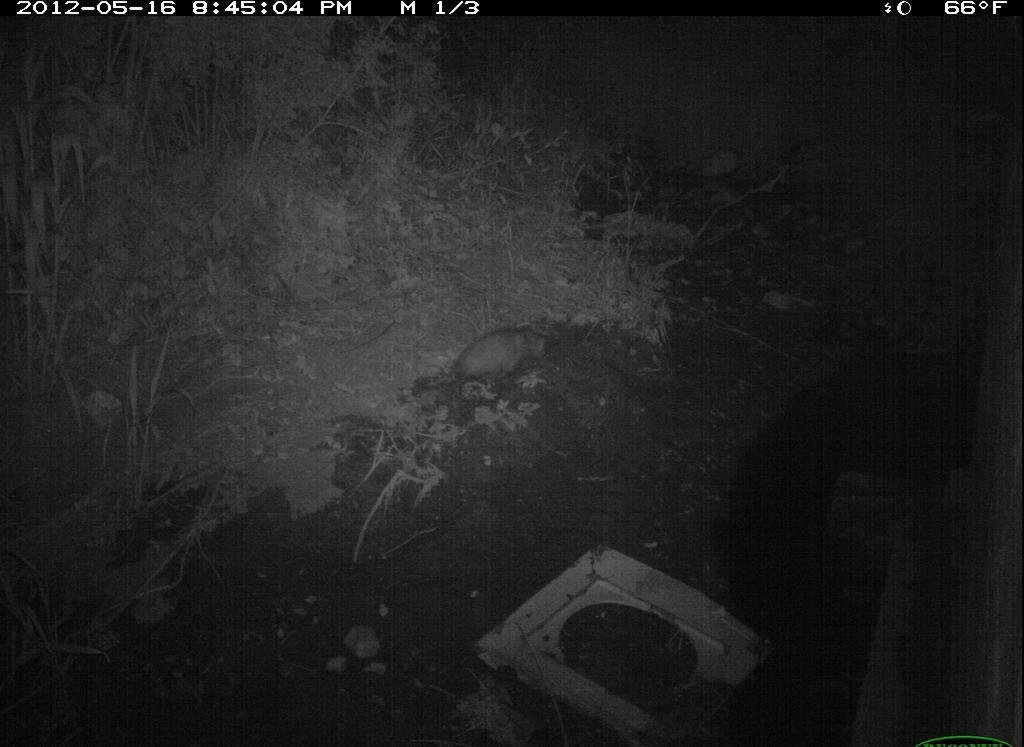opossum: (441, 310, 566, 408)
